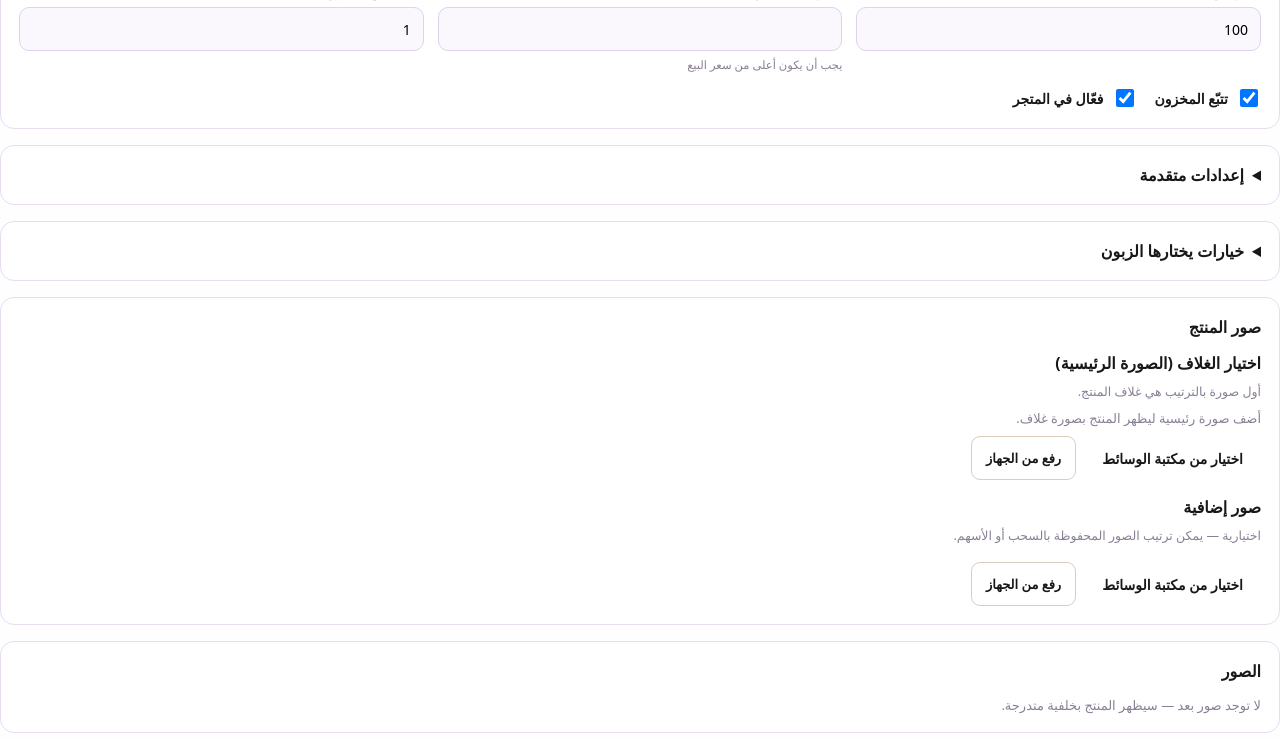
Test: product images › adds a library image to the product gallery
(page scrolled)
Click the button "اختيار من مكتبة الوسائط" below "أضف صورة رئيسية ليظهر المنتج بصورة غلاف.".
click(1173, 458)  # box x1=1084 y1=436 x2=1261 y2=480
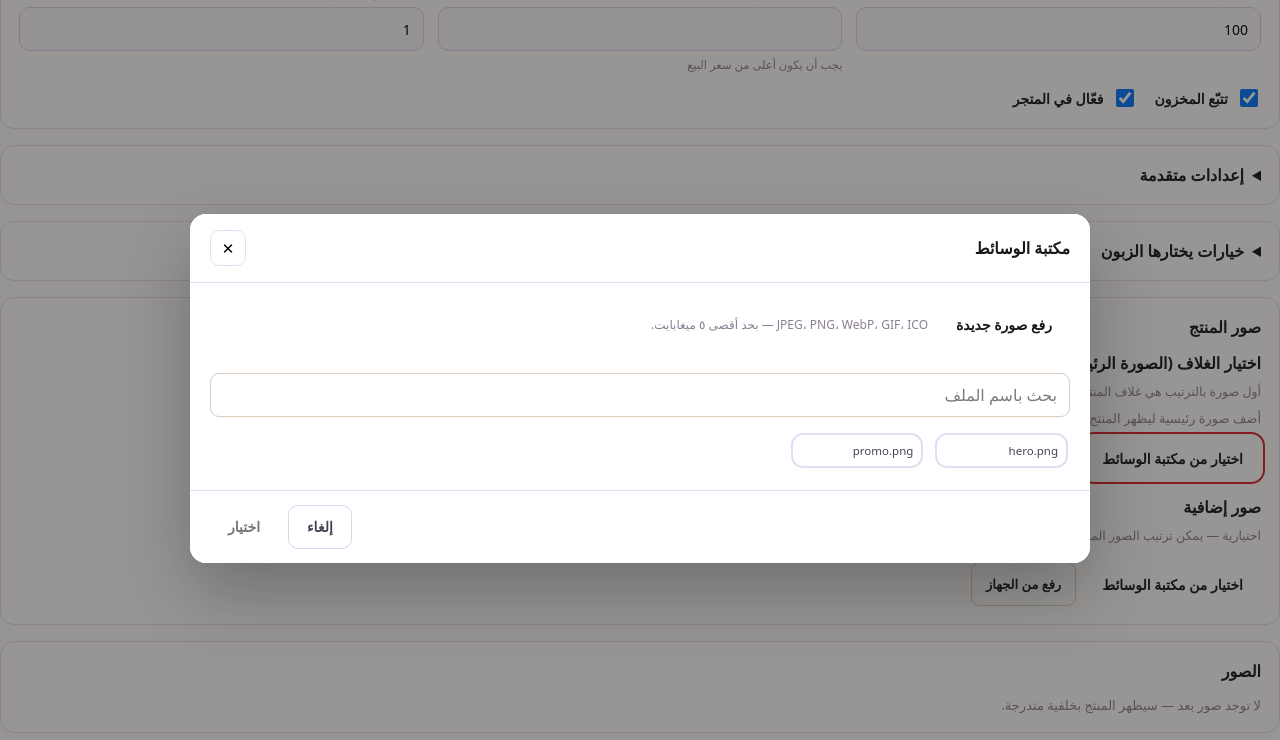
Click the button "hero.png".
click(1002, 450)  # box x1=935 y1=432 x2=1068 y2=468
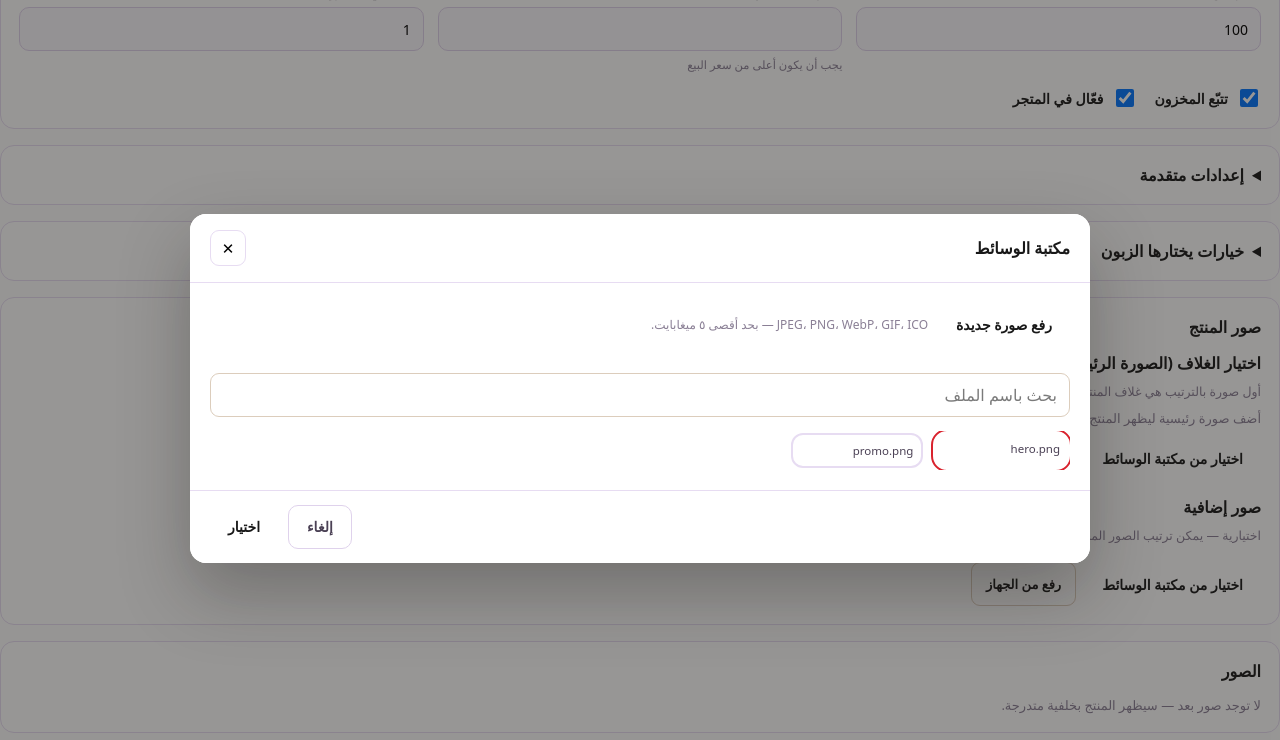
Click the button "اختيار".
click(244, 526)  # box x1=210 y1=504 x2=278 y2=548
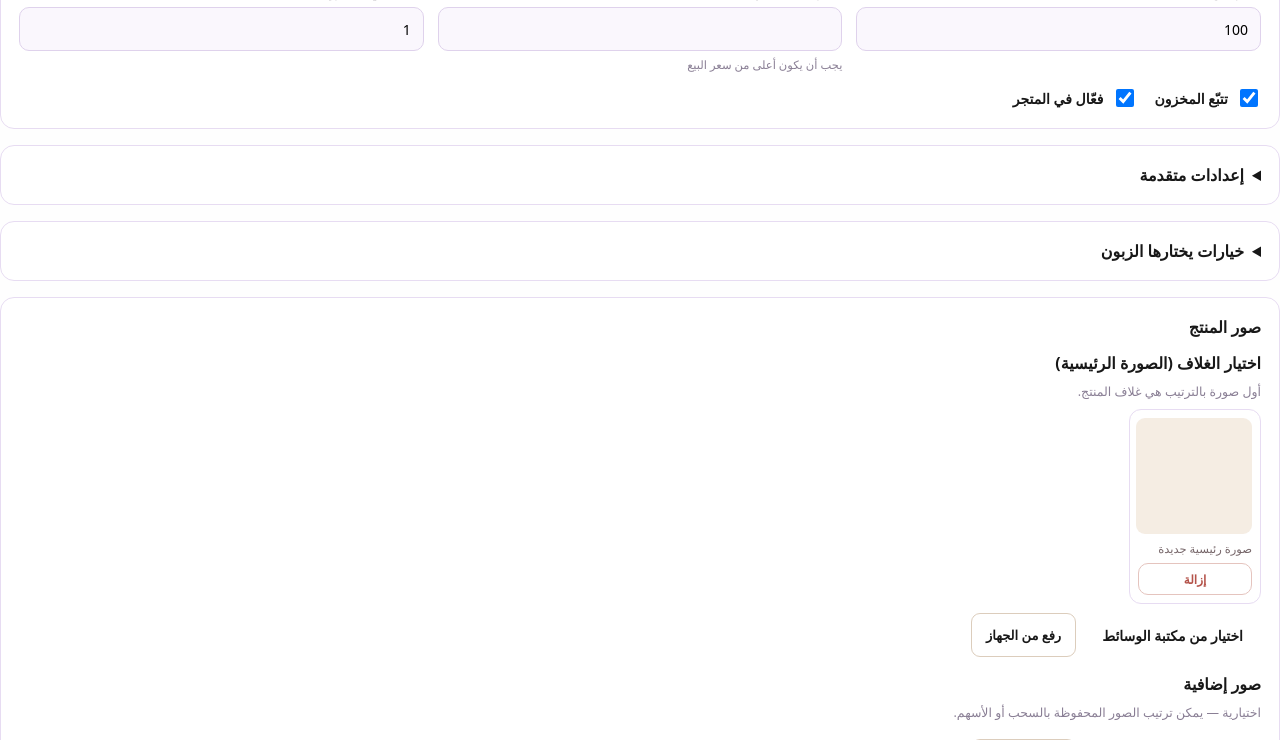
expect the text "صورة رئيسية جديدة" is shown: met, box x1=1158 y1=541 x2=1252 y2=556
